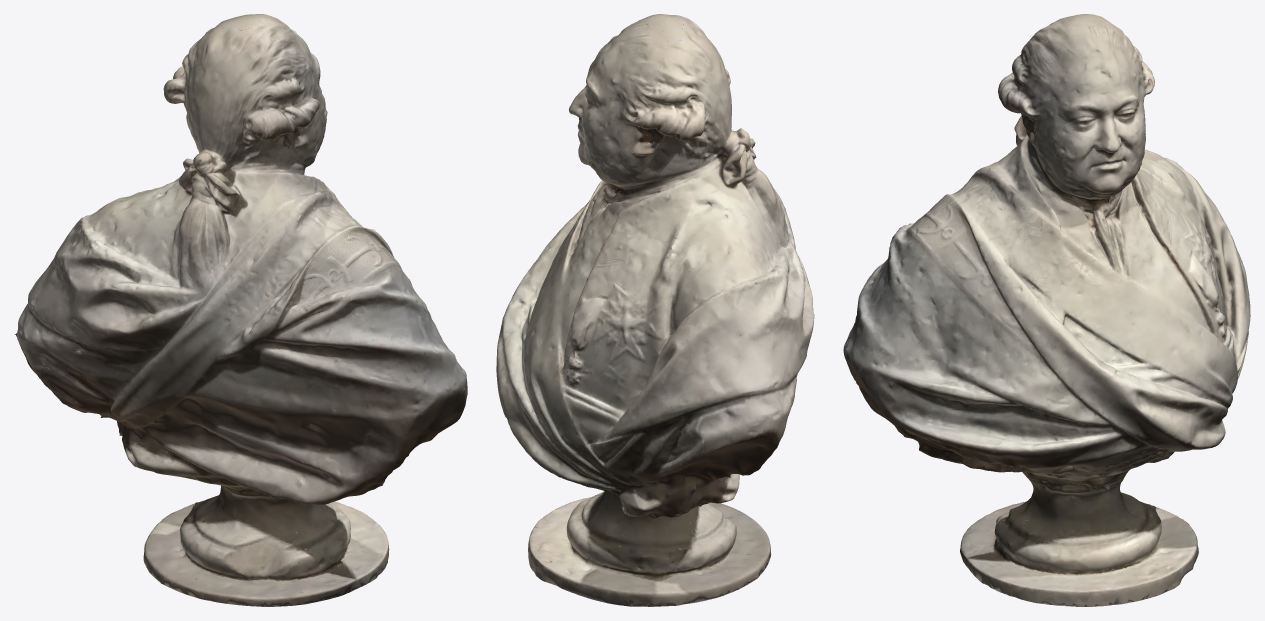
The model's file is preview.glb.
3 renders of one model, left to right at view 1: azimuth 30°, elevation 25°; view 2: azimuth 150°, elevation 25°; view 3: azimuth 270°, elevation 25°, orthographic. The views are drawn at different scales.
Parts seen in each view (by area): view 1: Object_3; view 2: Object_3, Object_2; view 3: Object_3.
Boxes of the visible parts, x1,y1,x2,y2 form: Object_3: (14,14,467,606); Object_3: (496,14,814,606); Object_2: (645,14,684,44); Object_3: (843,16,1250,606).
Size of the model in its own units: 567 by 938 by 649.
2 materials, 2 textured.
